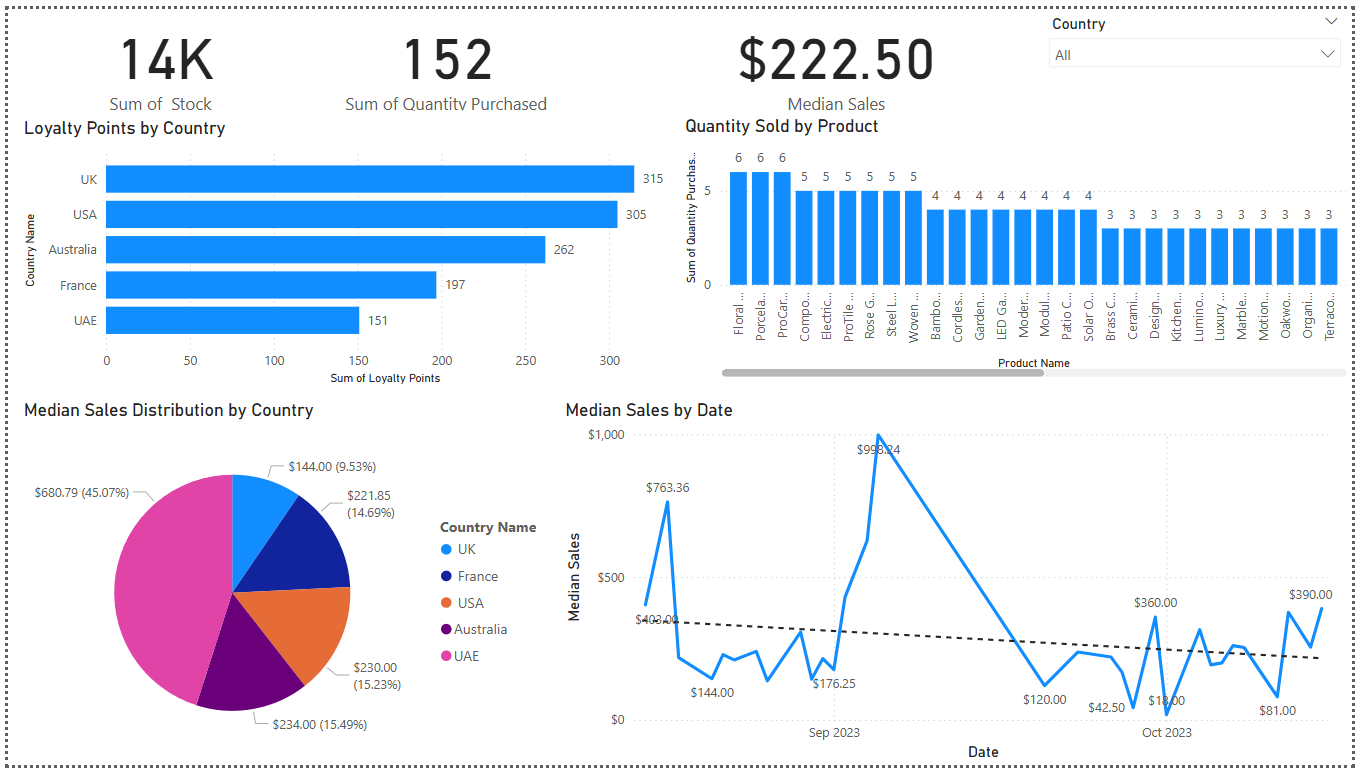

Layout of this report page (visuals, bound fields, positions):
{"tool":"powerbi","page":{"name":"Sales Overview","canvas":[1280,720],"ordinal":1},"visuals":[{"type":"clusteredBarChart","title":"Loyalty Points by Country","fields":{"Category":["Sales in USD.Country Name"],"Y":["Sum(Sales in USD. Loyalty Points)"]},"box":[10.2,102.3,629.9,258.7],"z":0},{"type":"clusteredColumnChart","title":"Quantity Sold by Product","fields":{"Category":["Sales in USD.Product Name"],"Y":["Sum(Sales in USD.Quantity Purchased)"]},"box":[639.7,101.9,639.7,253.9],"z":1000},{"type":"pieChart","title":"Median Sales Distribution by Country","fields":{"Category":["Sales in USD.Country Name"],"Y":["Sales in USD.Median Sales"]},"box":[10,370.8,514.5,349.1],"z":2000},{"type":"card","fields":{"Values":["Sum(Sales in USD. Stock  )"]},"box":[0,0,298.3,101.5],"z":3000},{"type":"card","fields":{"Values":["Sum(Sales in USD.Quantity Purchased)"]},"box":[266.5,0,299.8,101.5],"z":4000},{"type":"card","fields":{"Values":["Sales in USD.Median Sales"]},"box":[639,0,299.8,101.5],"z":5000},{"type":"lineChart","fields":{"Y":["Sales in USD.Median Sales"],"Category":["CalendarTable.Date"]},"box":[525.4,371,754.1,348.3],"z":6000},{"type":"slicer","title":"Country","fields":{"Values":["Sales in USD.Country Name"]},"box":[981.7,0,297.8,68.4],"z":7000}]}

Visuals, with their boxes in screenshot pixels (x1, y1, x2, y2), scaled from the page's 1280x720 canvas onto the 1362x772 screenshot:
"Loyalty Points by Country" clusteredBarChart: x1=11, y1=110, x2=681, y2=387
"Quantity Sold by Product" clusteredColumnChart: x1=681, y1=109, x2=1361, y2=381
"Median Sales Distribution by Country" pieChart: x1=11, y1=398, x2=558, y2=771
card - Sum(Sales in USD. Stock  ): x1=0, y1=0, x2=317, y2=109
card - Sum(Sales in USD.Quantity Purchased): x1=284, y1=0, x2=603, y2=109
card - Sales in USD.Median Sales: x1=680, y1=0, x2=999, y2=109
lineChart - Sales in USD.Median Sales x CalendarTable.Date: x1=559, y1=398, x2=1361, y2=771
"Country" slicer: x1=1045, y1=0, x2=1361, y2=73
